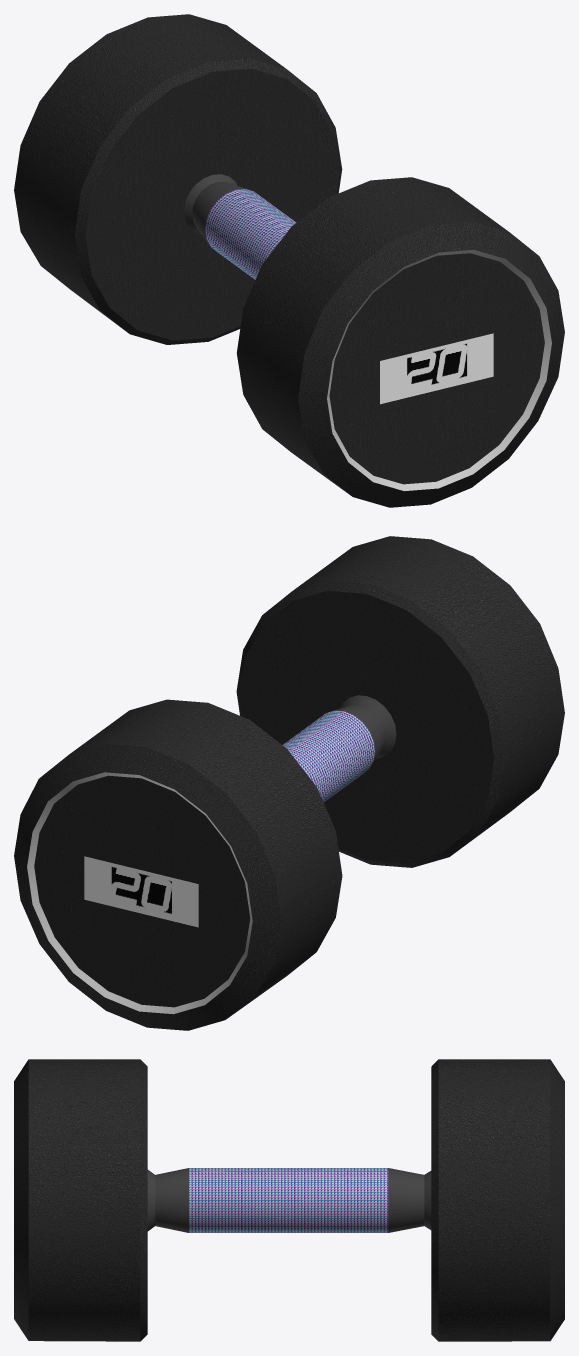
The picture shows the model from 3 angles, top to bottom: view 1: azimuth 30°, elevation 25°; view 2: azimuth 150°, elevation 25°; view 3: azimuth 270°, elevation 25°; orthographic projection. The views are drawn at different scales.
Parts seen in each view (by area): view 1: 20; view 2: 20; view 3: 20.
Part boxes in pixels (left/top/right/bottom): 20: left=14, top=14, right=564, bottom=507; 20: left=14, top=536, right=564, bottom=1030; 20: left=14, top=1059, right=564, bottom=1341.
Bounding box in the file's own units: 0.1278 × 0.2474 × 0.1278.
